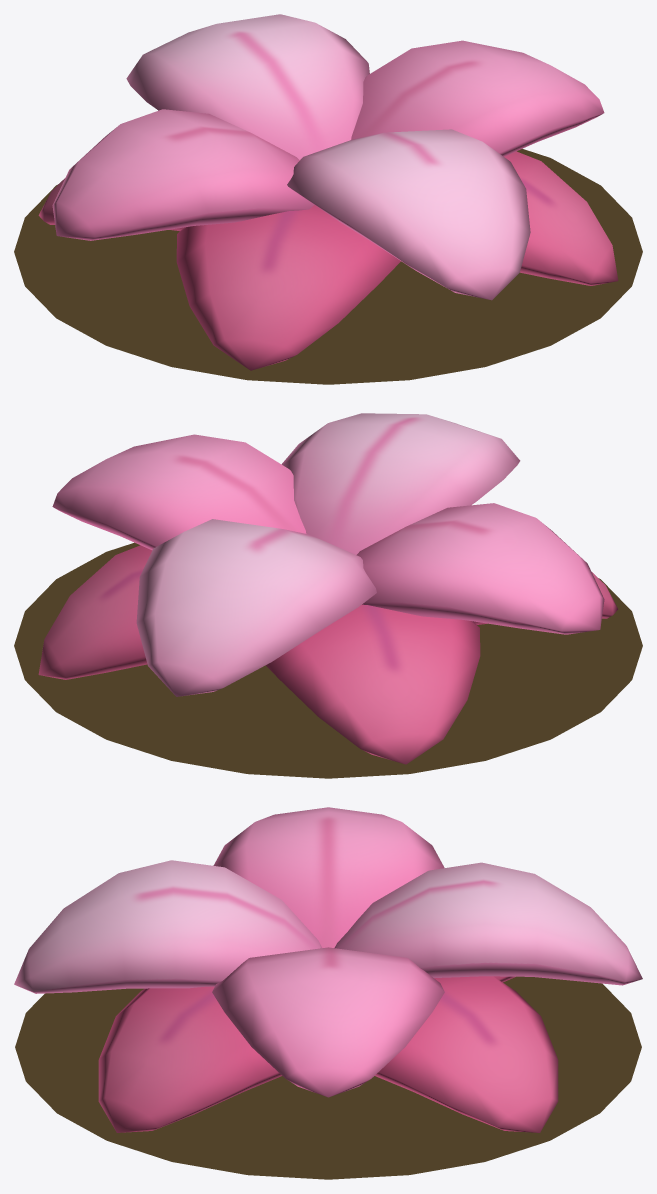
File: JpFlower01B.fbx
The picture shows the model from 3 angles, top to bottom: view 1: azimuth 30°, elevation 25°; view 2: azimuth 150°, elevation 25°; view 3: azimuth 270°, elevation 25°; orthographic projection.
Visible parts, largest first — view 1: polySurface2, polySurface1; view 2: polySurface2, polySurface1; view 3: polySurface2, polySurface1.
Part boxes in pixels (x1,y1,x2,y2): polySurface2: [38, 14, 618, 370]; polySurface1: [14, 149, 642, 384]; polySurface2: [38, 413, 618, 764]; polySurface1: [14, 542, 642, 778]; polySurface2: [14, 807, 642, 1132]; polySurface1: [15, 976, 641, 1179].
Bounding box in the file's own units: 125 × 35.59 × 125.
